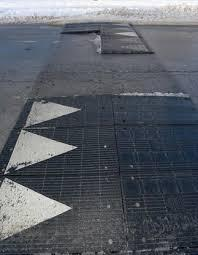Pothole: (44, 32, 108, 93), (104, 55, 151, 95)
